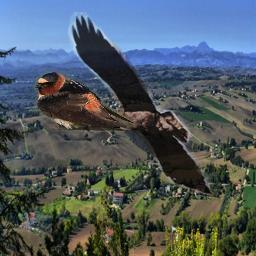Crow: (68, 12, 214, 198)
Swallow: (34, 71, 137, 132)
